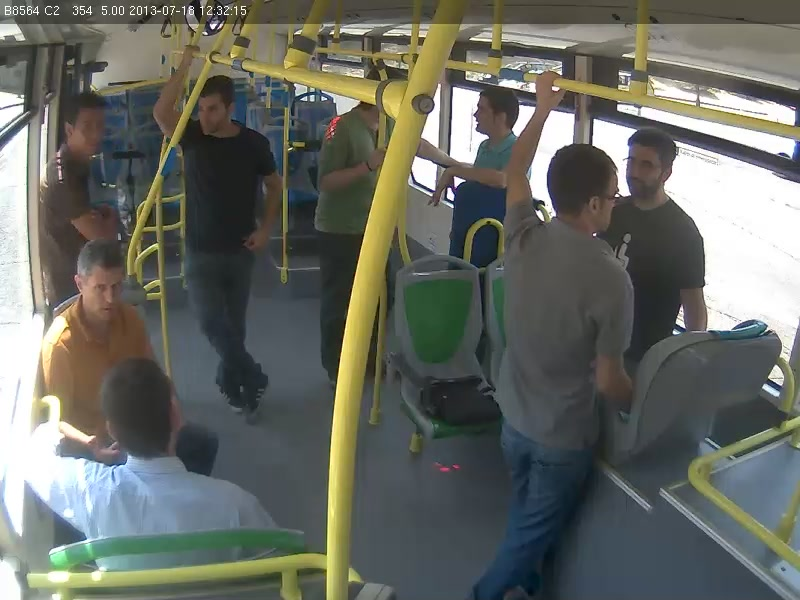Head: (97, 353, 198, 468), (542, 141, 623, 242), (68, 233, 136, 326), (620, 123, 681, 201), (55, 86, 113, 164), (192, 71, 242, 140), (470, 77, 522, 141)
